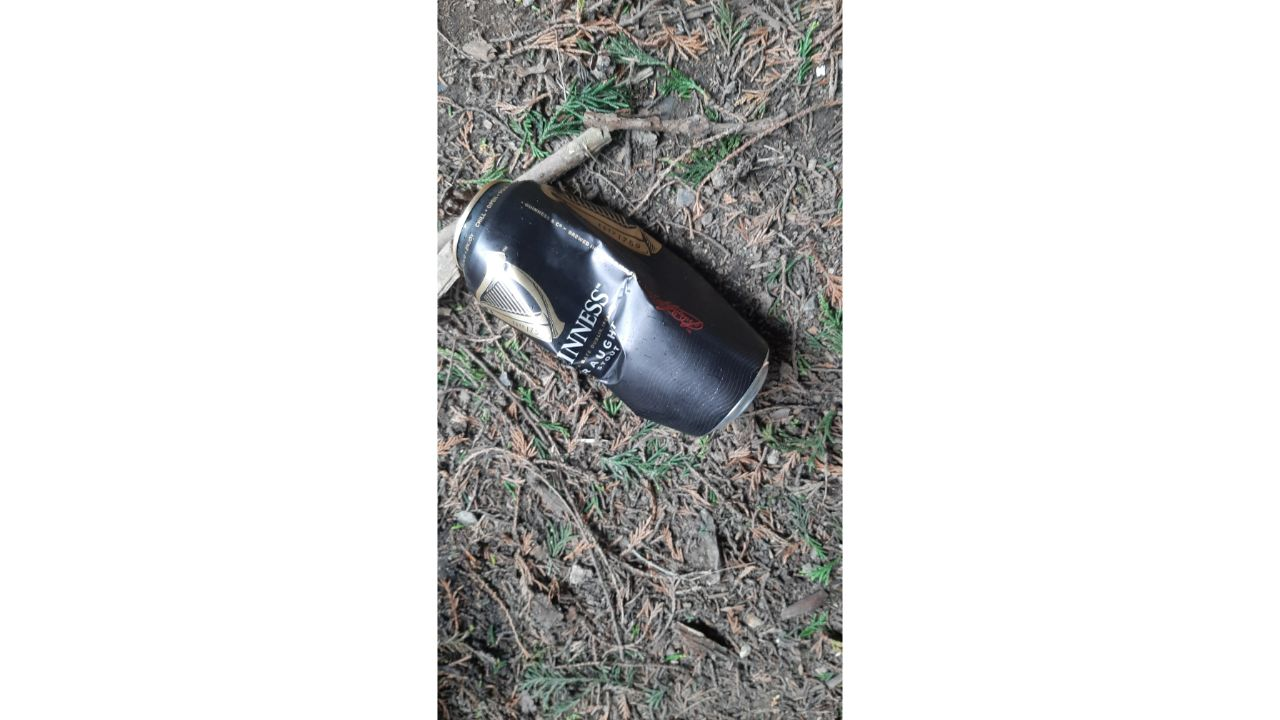Can: (453, 180, 771, 437)
